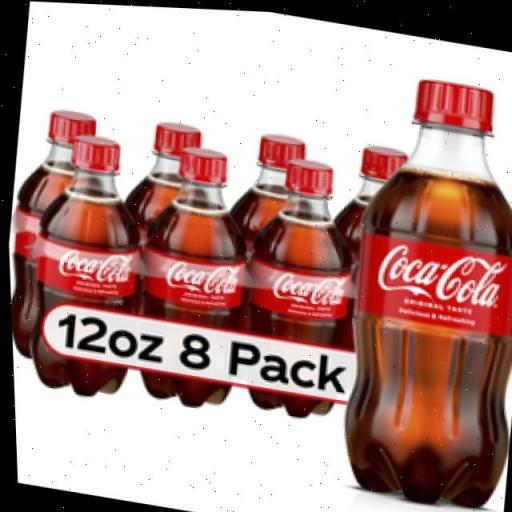plastic: (0, 9, 512, 511), (319, 62, 512, 511), (12, 123, 159, 403), (222, 146, 368, 422), (118, 136, 261, 411)
